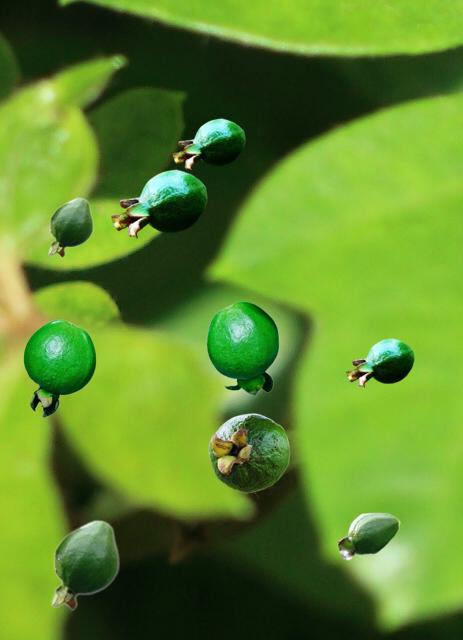guava: (23, 319, 95, 416), (206, 301, 278, 394), (111, 169, 206, 237), (208, 413, 289, 492), (51, 519, 118, 610), (172, 118, 244, 169), (346, 338, 413, 386), (337, 512, 399, 559), (48, 197, 92, 257)
